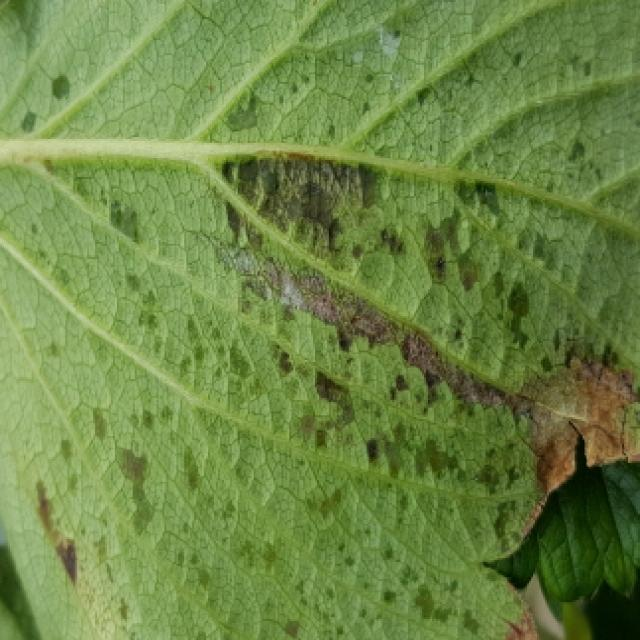Angular Leafspot: (0, 12, 640, 640)
